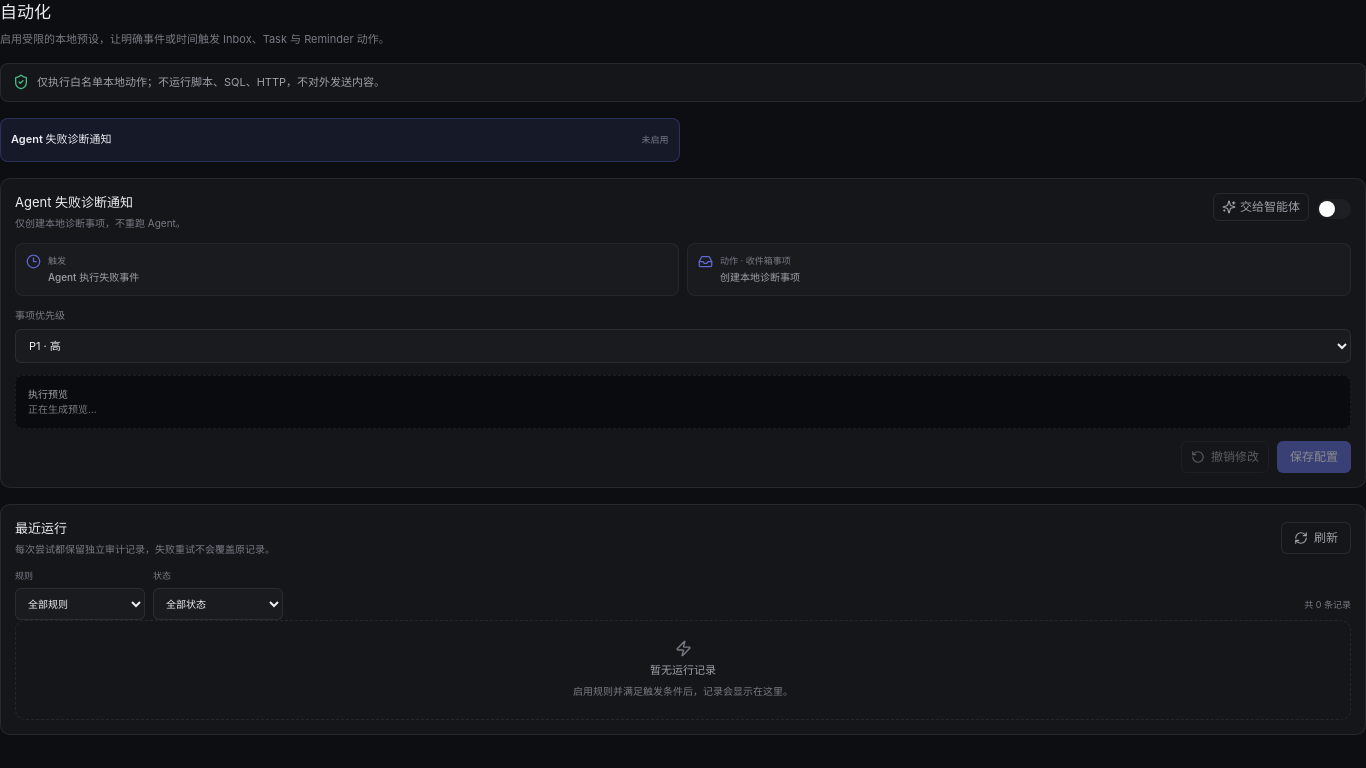
Scenario: AutomationSettings › keeps the available Agent failure notification preset disabled until manual enable
Step 1. Click the button named "启用自动化" → [1334, 208], box [1317,198,1351,218]
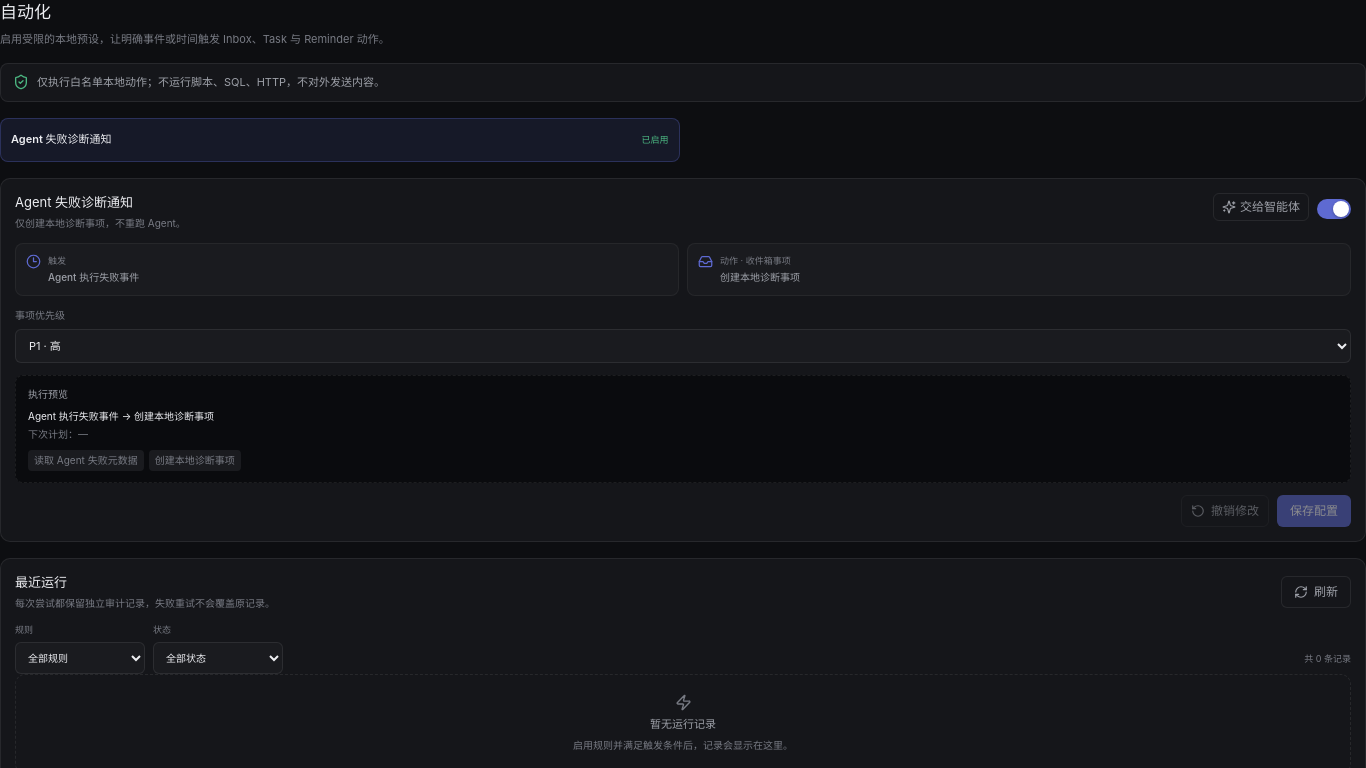
Check: the button named "停用自动化" is shown, box [1317,198,1351,218]
